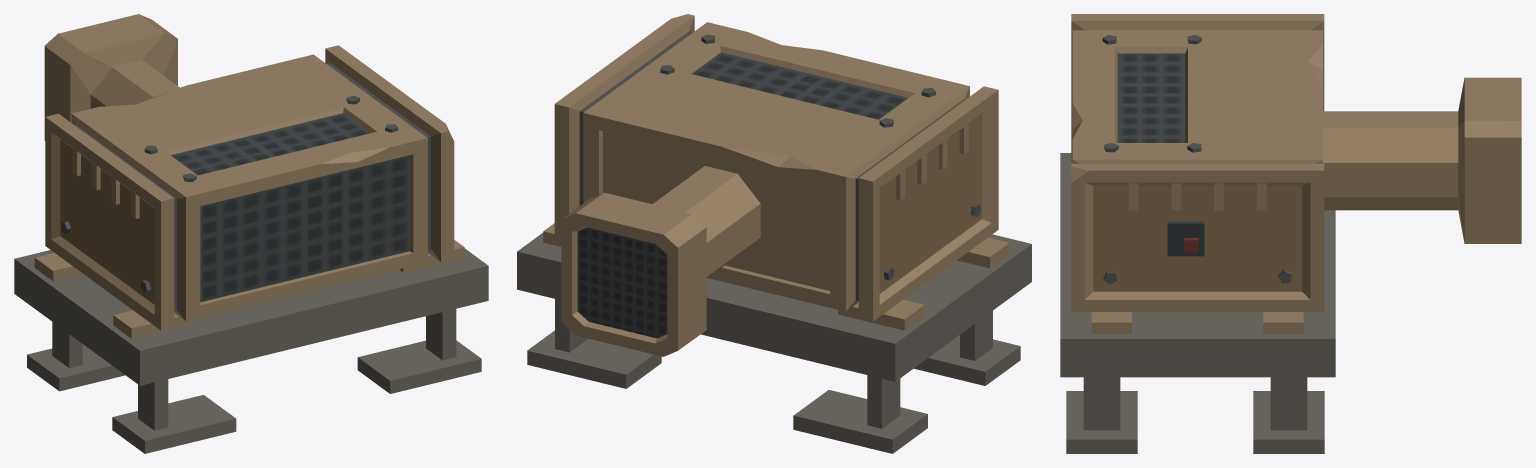
The model's file is SM_Prop_Airvent_01.fbx.
3 views of the same model, side by side, from view 1: azimuth 30°, elevation 25°; view 2: azimuth 150°, elevation 25°; view 3: azimuth 270°, elevation 25° (orthographic). The views are drawn at different scales.
Parts seen in each view (by area): view 1: SM_Prop_Airvent_01; view 2: SM_Prop_Airvent_01; view 3: SM_Prop_Airvent_01.
Part boxes in pixels (x1=…): SM_Prop_Airvent_01: x1=14, y1=14, x2=488, y2=453; SM_Prop_Airvent_01: x1=517, y1=14, x2=1031, y2=453; SM_Prop_Airvent_01: x1=1060, y1=14, x2=1521, y2=453.
Bounding box in the file's own units: 191 × 130 × 201.
